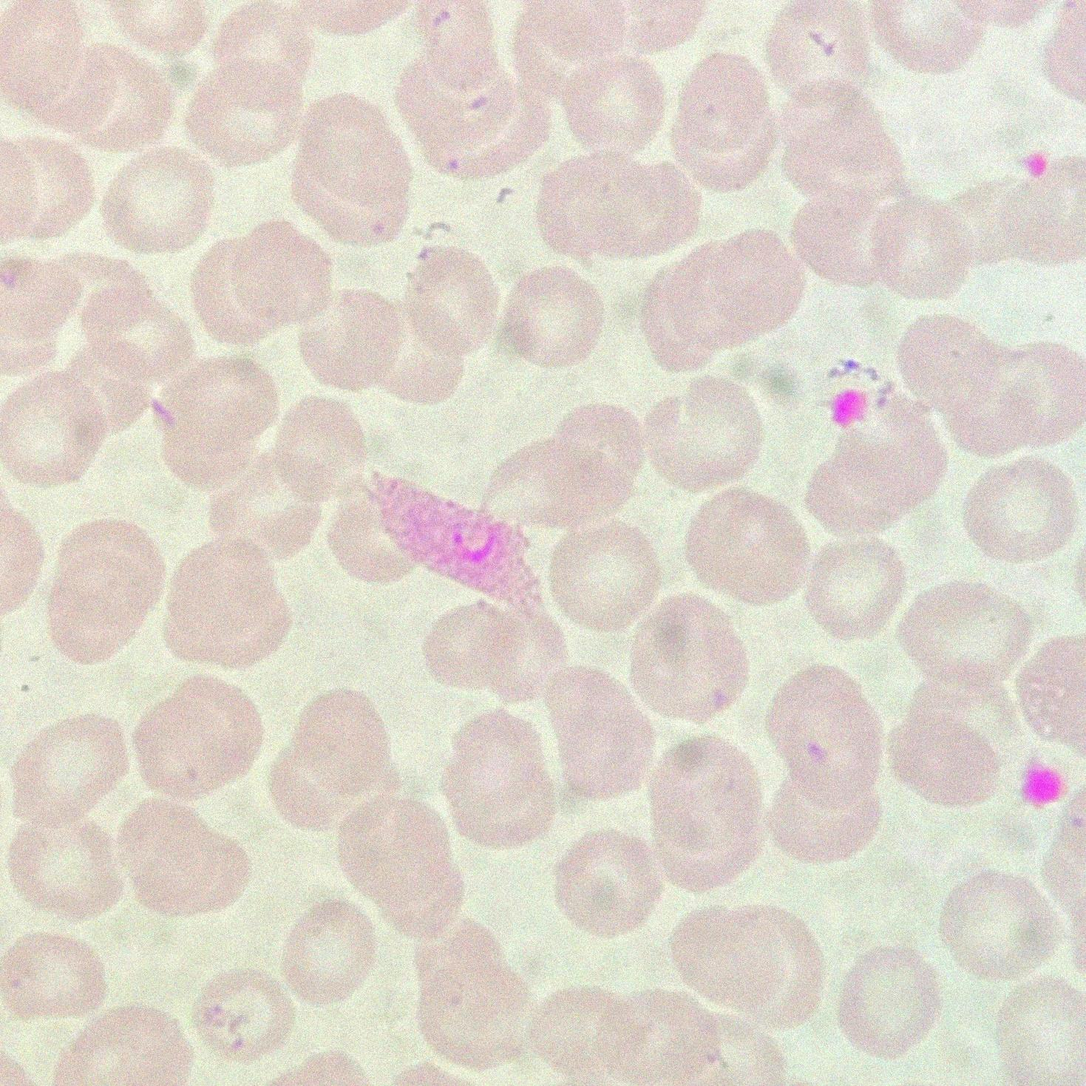Infected: (350, 476, 549, 608)
Uninfected: (643, 231, 805, 372), (488, 404, 651, 531), (399, 47, 549, 181), (537, 150, 702, 265), (806, 402, 946, 535), (671, 903, 819, 1025), (163, 532, 295, 668), (644, 739, 766, 886), (152, 357, 282, 494), (336, 797, 466, 934), (271, 688, 399, 827), (133, 673, 266, 806), (48, 515, 166, 663), (413, 923, 532, 1065), (117, 796, 253, 919), (441, 712, 562, 849), (772, 80, 904, 205), (74, 258, 193, 396), (764, 664, 881, 797), (667, 54, 778, 190), (627, 600, 748, 723), (682, 490, 809, 607), (543, 668, 657, 798), (424, 597, 563, 703), (644, 378, 771, 493), (12, 710, 132, 829), (3, 367, 116, 492), (889, 691, 1006, 810), (897, 584, 1032, 686), (189, 58, 313, 169), (297, 285, 416, 398), (365, 285, 475, 406), (546, 520, 662, 634), (554, 51, 672, 163), (861, 194, 982, 302), (938, 870, 1056, 980), (787, 184, 906, 291), (9, 813, 126, 921), (1, 245, 100, 371), (974, 161, 1086, 272), (101, 148, 217, 255), (962, 457, 1076, 564), (310, 95, 417, 208), (895, 314, 1011, 418), (554, 829, 666, 936), (402, 248, 505, 362), (767, 764, 881, 865), (604, 994, 729, 1086), (268, 394, 373, 503), (531, 983, 651, 1078), (766, 0, 874, 105), (838, 947, 942, 1056), (298, 139, 412, 238), (983, 344, 1085, 451), (58, 1001, 190, 1082), (803, 539, 908, 639), (1, 134, 95, 245), (207, 472, 321, 563), (193, 234, 282, 349), (280, 900, 378, 1004), (200, 8, 308, 101), (508, 262, 598, 373), (413, 2, 512, 101), (71, 43, 169, 143), (196, 967, 296, 1064), (237, 220, 324, 330), (4, 930, 108, 1022), (325, 484, 427, 577), (520, 0, 640, 77), (996, 977, 1085, 1077), (1015, 635, 1086, 758), (869, 1, 983, 75), (0, 0, 74, 97)
